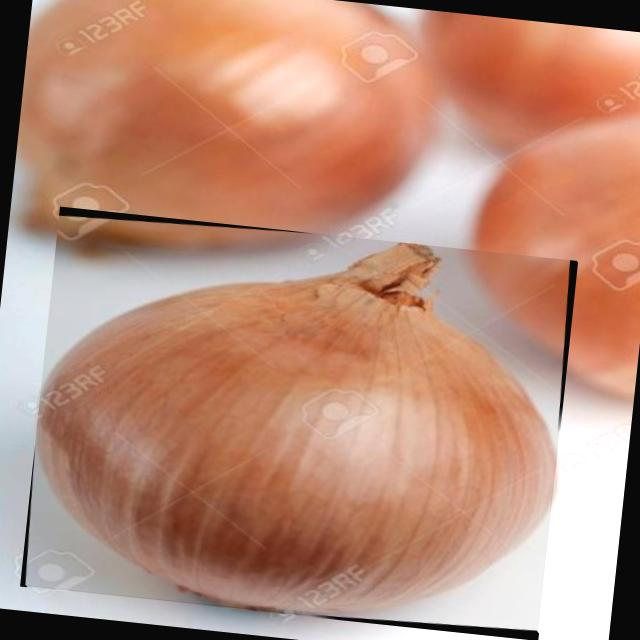healthy: (37, 243, 555, 614)
